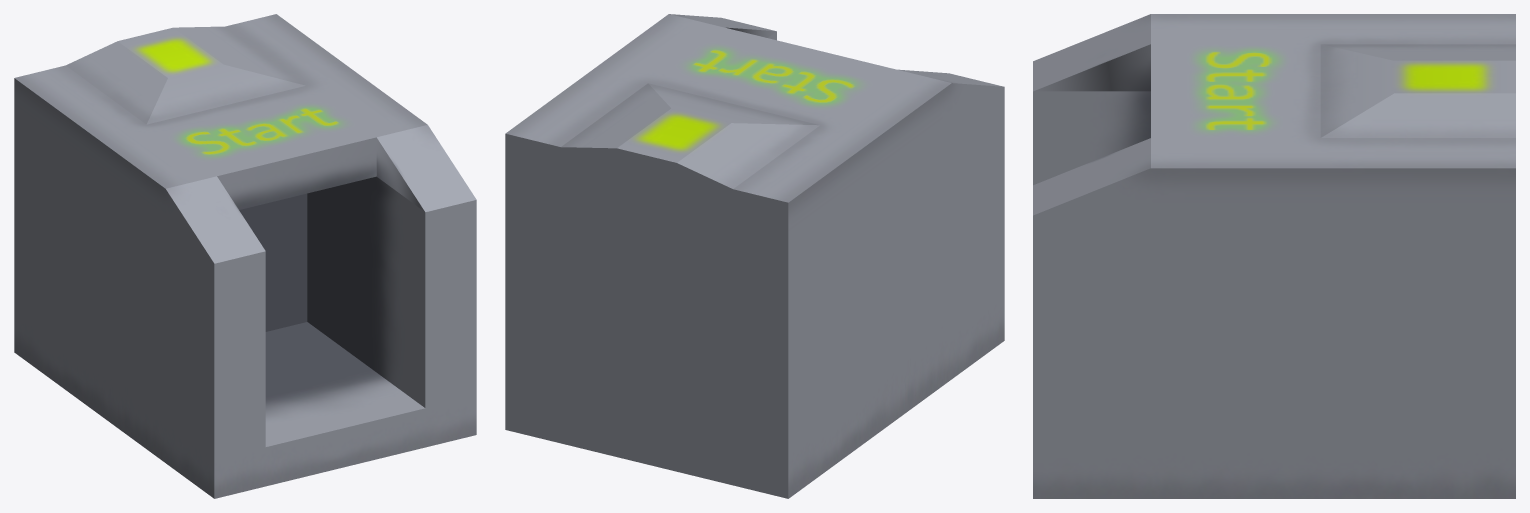
File: Start_box.fbx
3 renders of one model, left to right at view 1: azimuth 30°, elevation 25°; view 2: azimuth 150°, elevation 25°; view 3: azimuth 270°, elevation 25°, orthographic. The views are drawn at different scales.
Visible parts, largest first — view 1: Start_box; view 2: Start_box; view 3: Start_box.
Part boxes in pixels (x1,y1,x2,y2): Start_box: (14, 14, 476, 498); Start_box: (505, 14, 1004, 498); Start_box: (1033, 14, 1515, 498).
Size of the model in its own units: 1.5 by 1.56 by 1.98.
